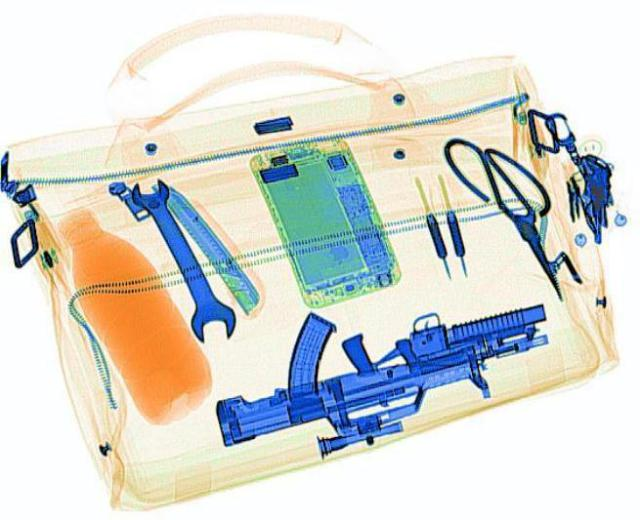Gun: (214, 300, 552, 451)
Knife: (439, 134, 565, 298)
Wrench: (131, 175, 237, 343)
